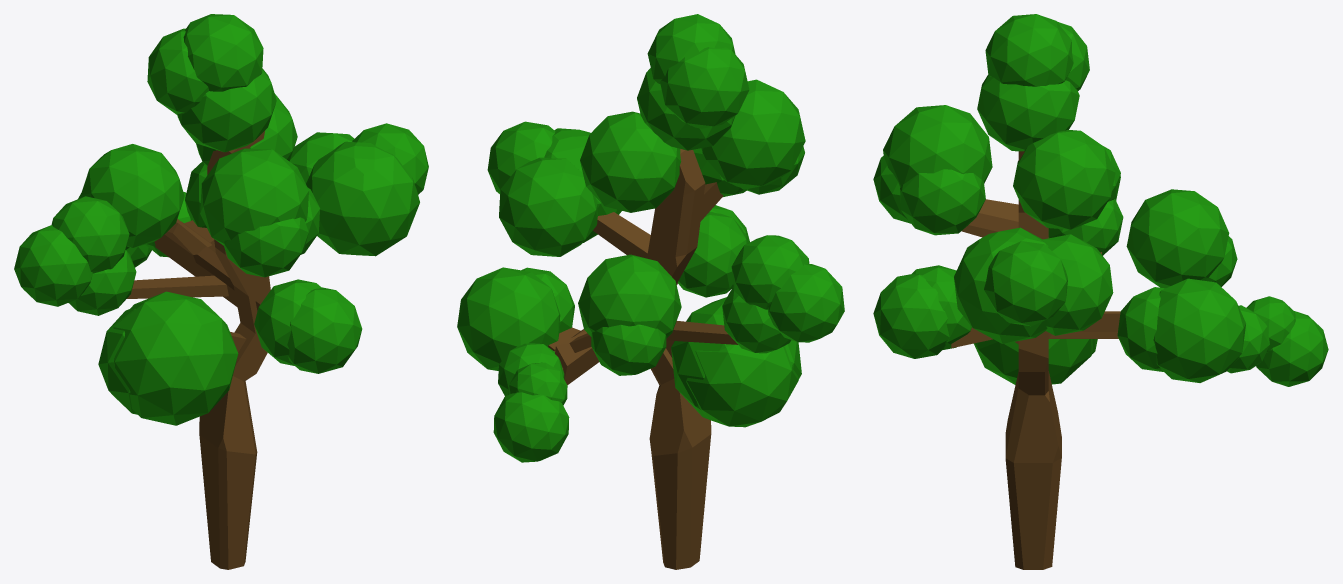
Rendered from tree.fbx.
3 renders of one model, left to right at view 1: azimuth 30°, elevation 25°; view 2: azimuth 150°, elevation 25°; view 3: azimuth 270°, elevation 25°, orthographic.
Visible parts, largest first — view 1: Cube; view 2: Cube; view 3: Cube.
Part boxes in pixels (x1,y1,x2,y2): Cube: (14,14,428,569); Cube: (457,14,844,569); Cube: (873,14,1328,569).
Size of the model in its own units: 6.61 by 7.03 by 9.22.
